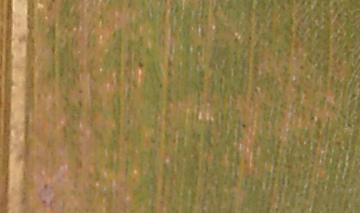tarspot: (165, 56, 174, 69), (50, 42, 58, 55), (136, 59, 145, 69), (76, 98, 84, 108), (218, 75, 225, 86), (297, 64, 306, 72), (309, 115, 317, 123), (345, 121, 353, 129), (157, 81, 164, 90), (125, 117, 132, 126), (240, 122, 247, 130), (246, 34, 253, 42), (41, 182, 48, 190), (76, 88, 84, 95), (349, 92, 356, 100), (126, 1, 132, 10), (232, 36, 239, 43), (40, 199, 48, 205), (49, 1, 56, 4)
